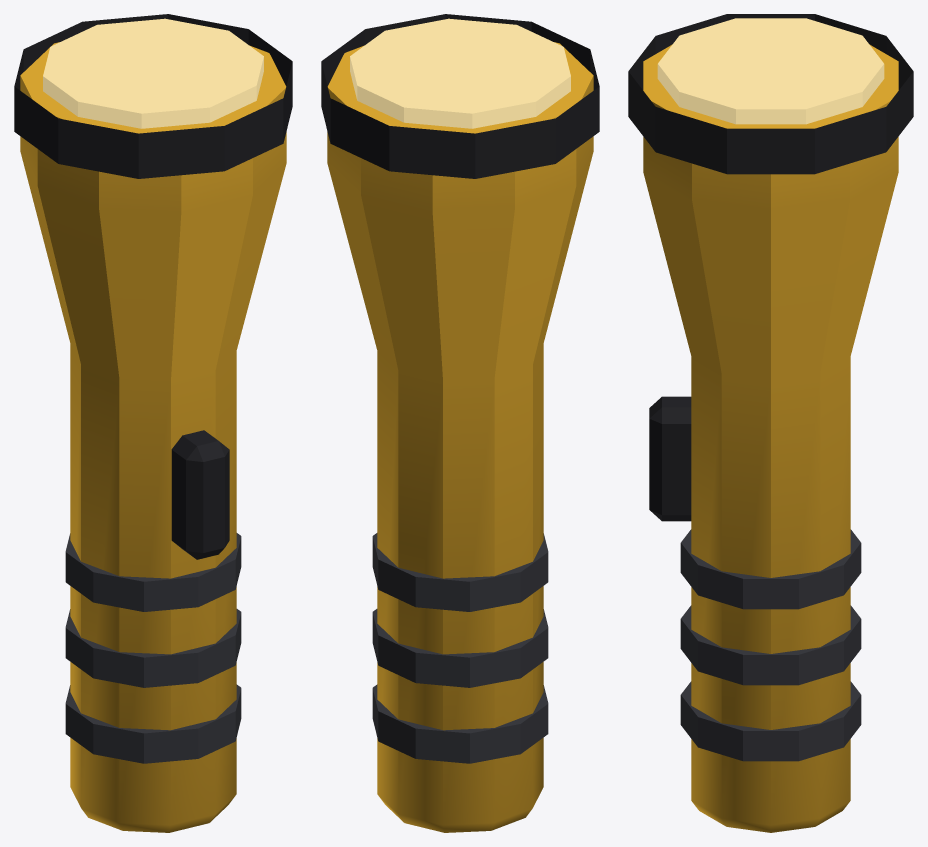
File: SM_Flashlight.glb
3 views of the same model, side by side, from view 1: azimuth 30°, elevation 25°; view 2: azimuth 150°, elevation 25°; view 3: azimuth 270°, elevation 25° (orthographic).
Parts seen in each view (by area): view 1: SM_Flashlight; view 2: SM_Flashlight; view 3: SM_Flashlight.
Part boxes in pixels (<box>): SM_Flashlight: <box>14,14,292,832</box>; SM_Flashlight: <box>321,14,599,832</box>; SM_Flashlight: <box>628,14,913,832</box>.
Bounding box in the file's own units: 0.0647 × 0.194 × 0.068.
Materials: 2 (2 with a texture image).
